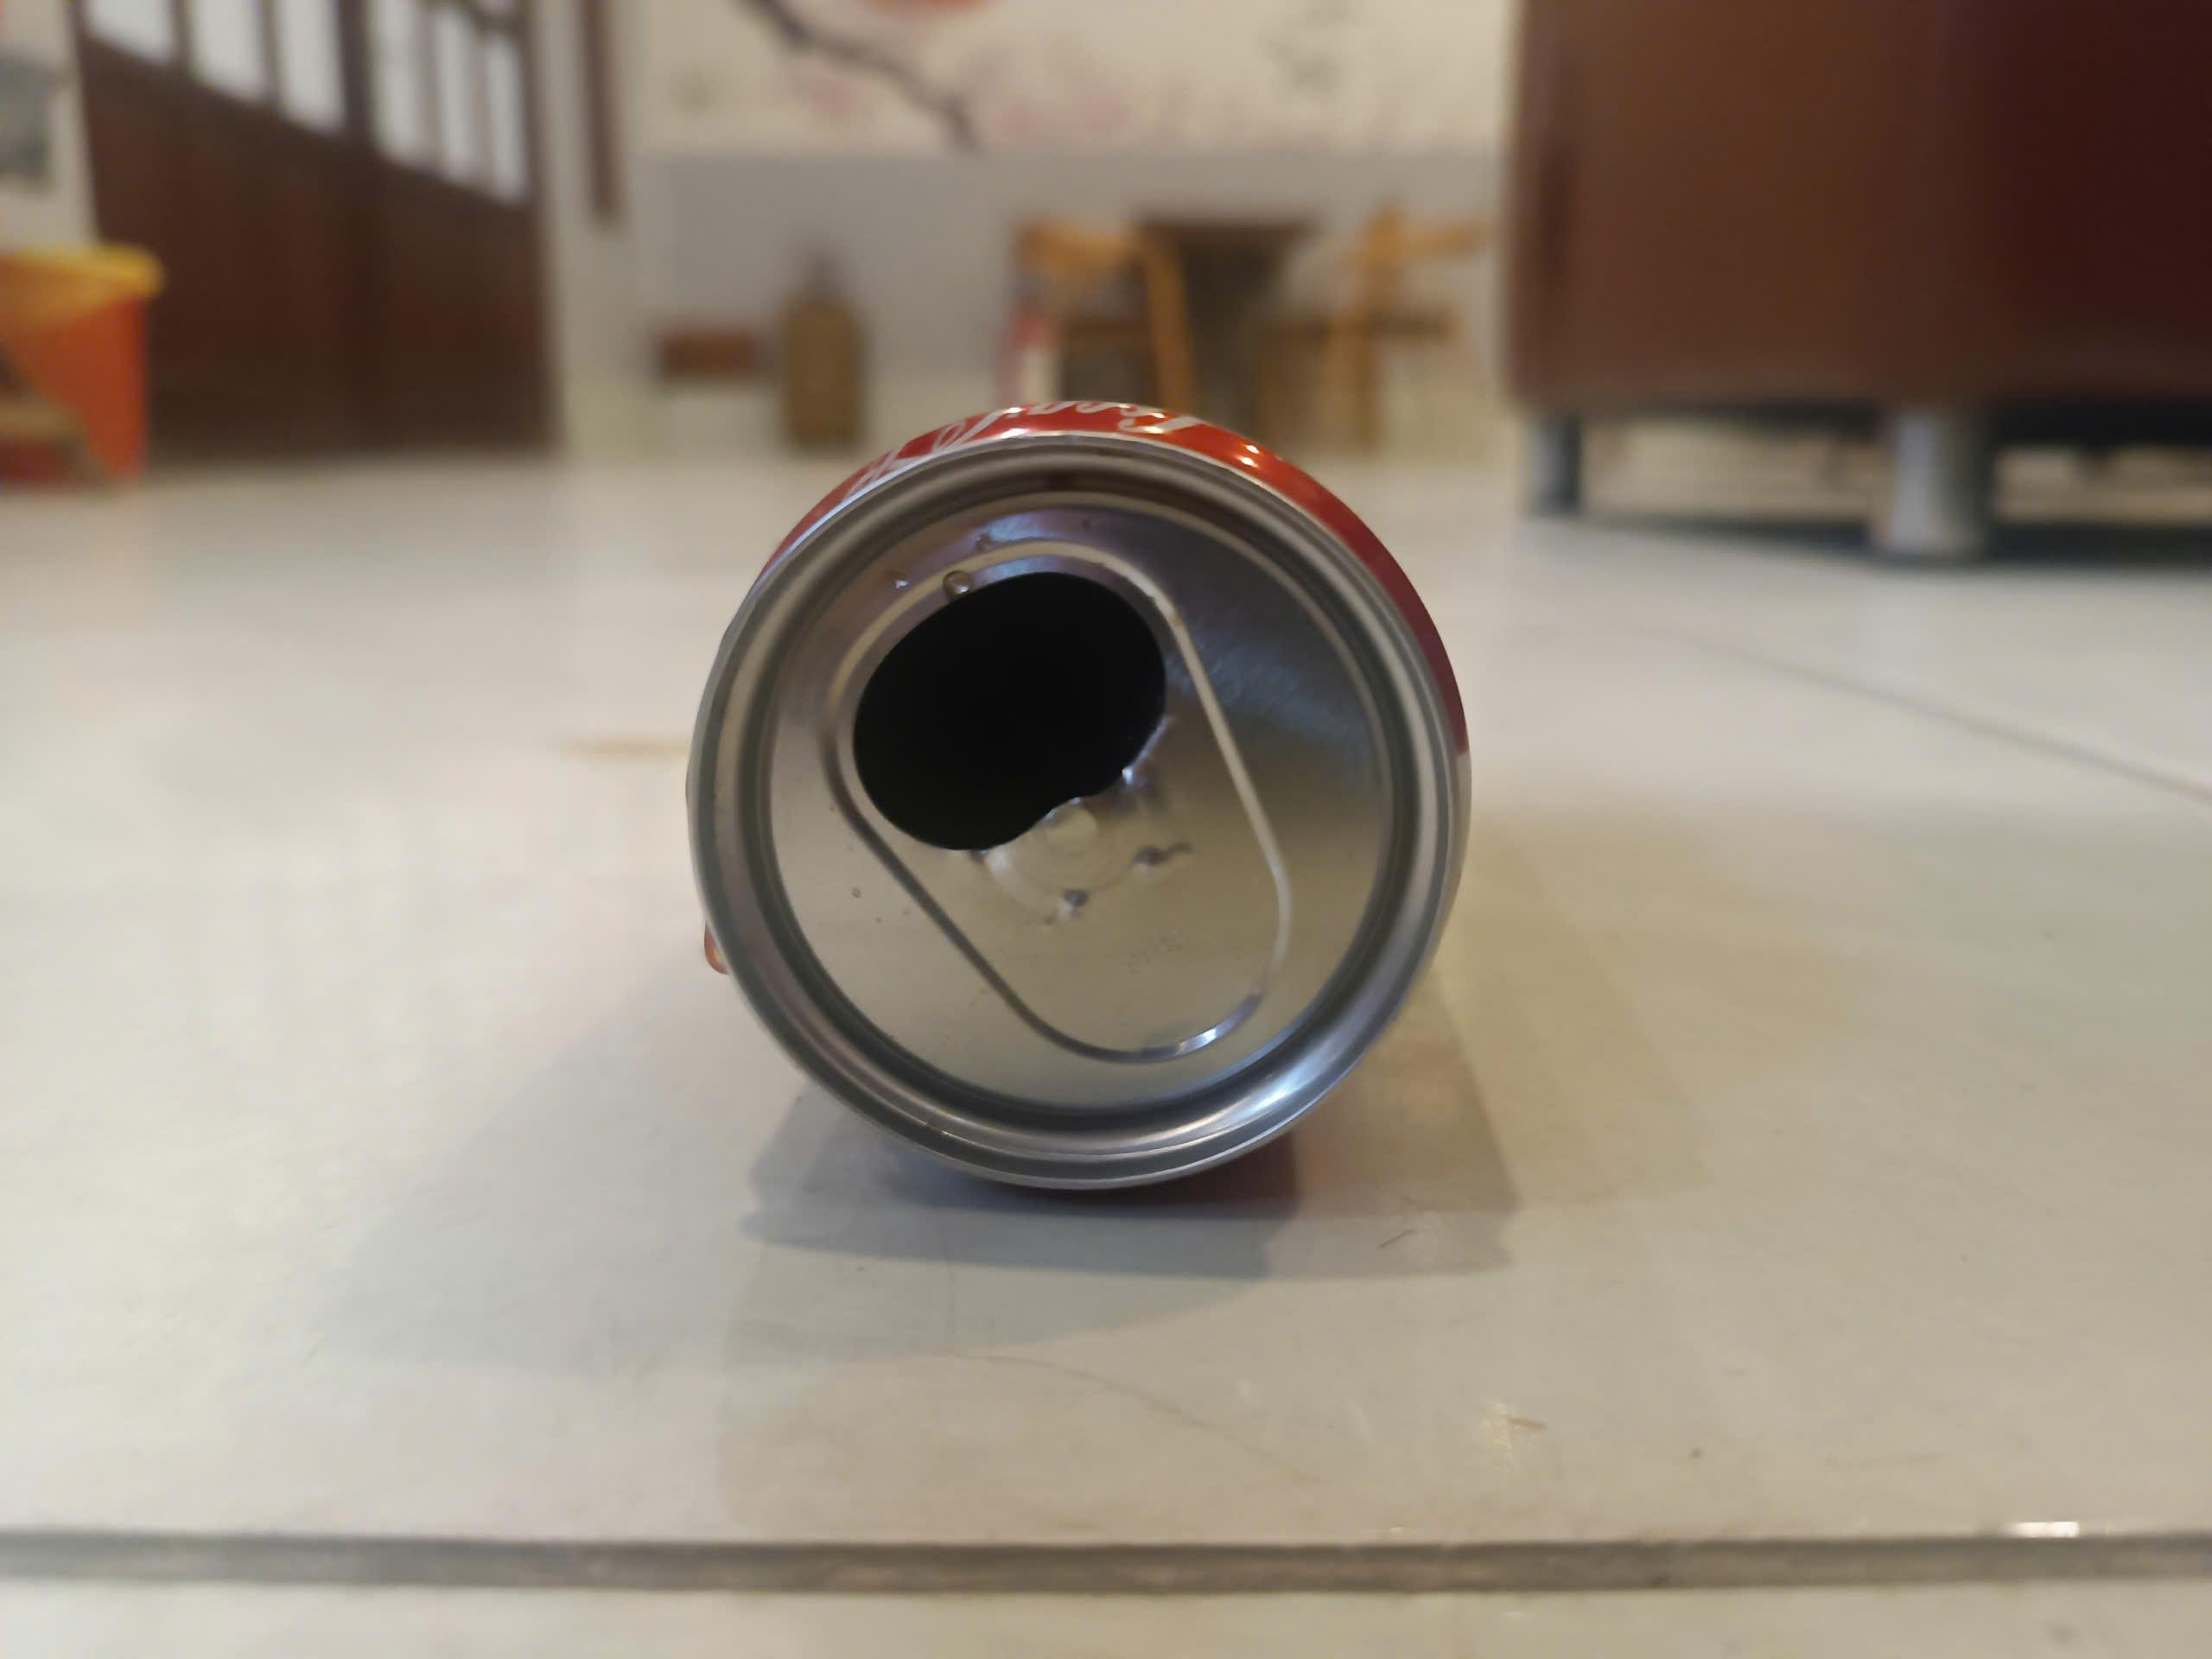Vo co: (679, 397, 1477, 1199)
